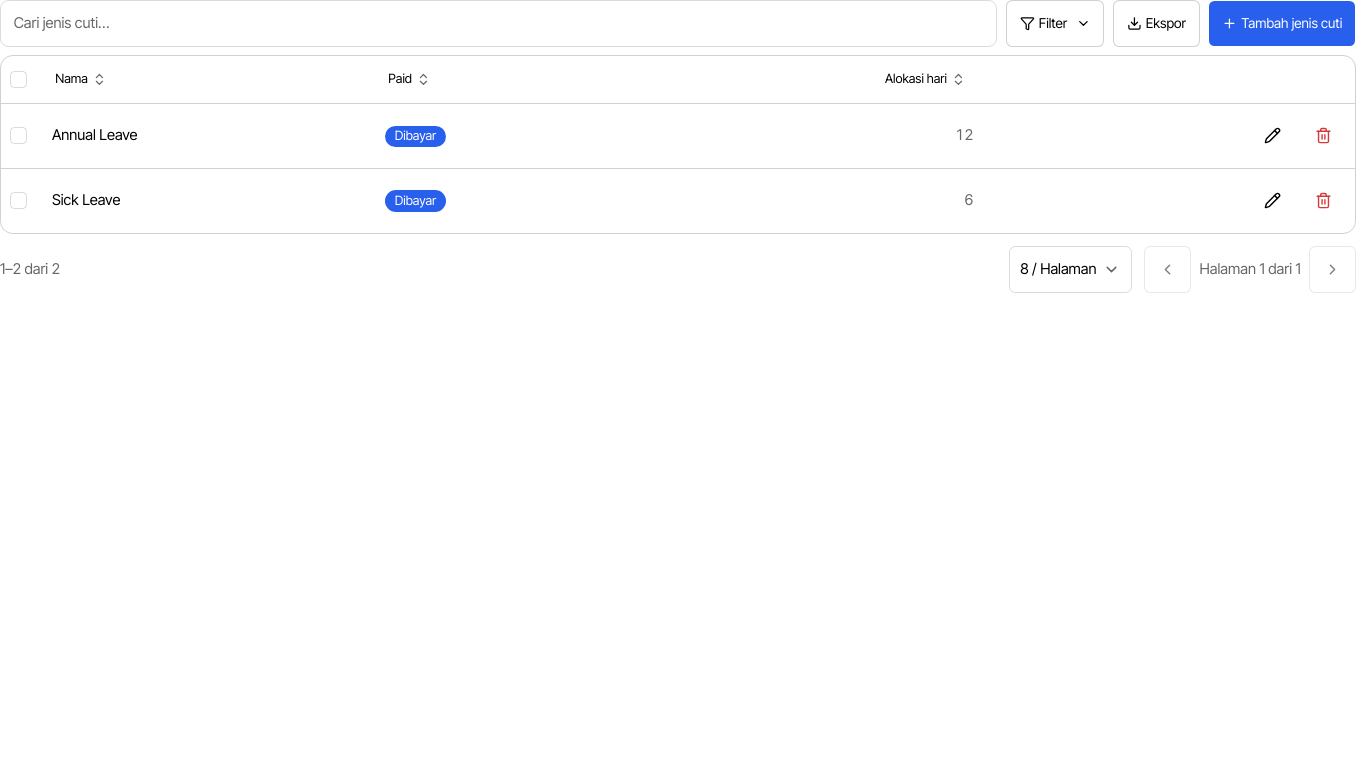
LeaveTypesSection › opens the create dialog from the add button
Expected: the text "Annual Leave" is shown, [52,126,138,144]
Click the button "Tambah jenis cuti" at [1282, 23], box [1208,0,1356,47]
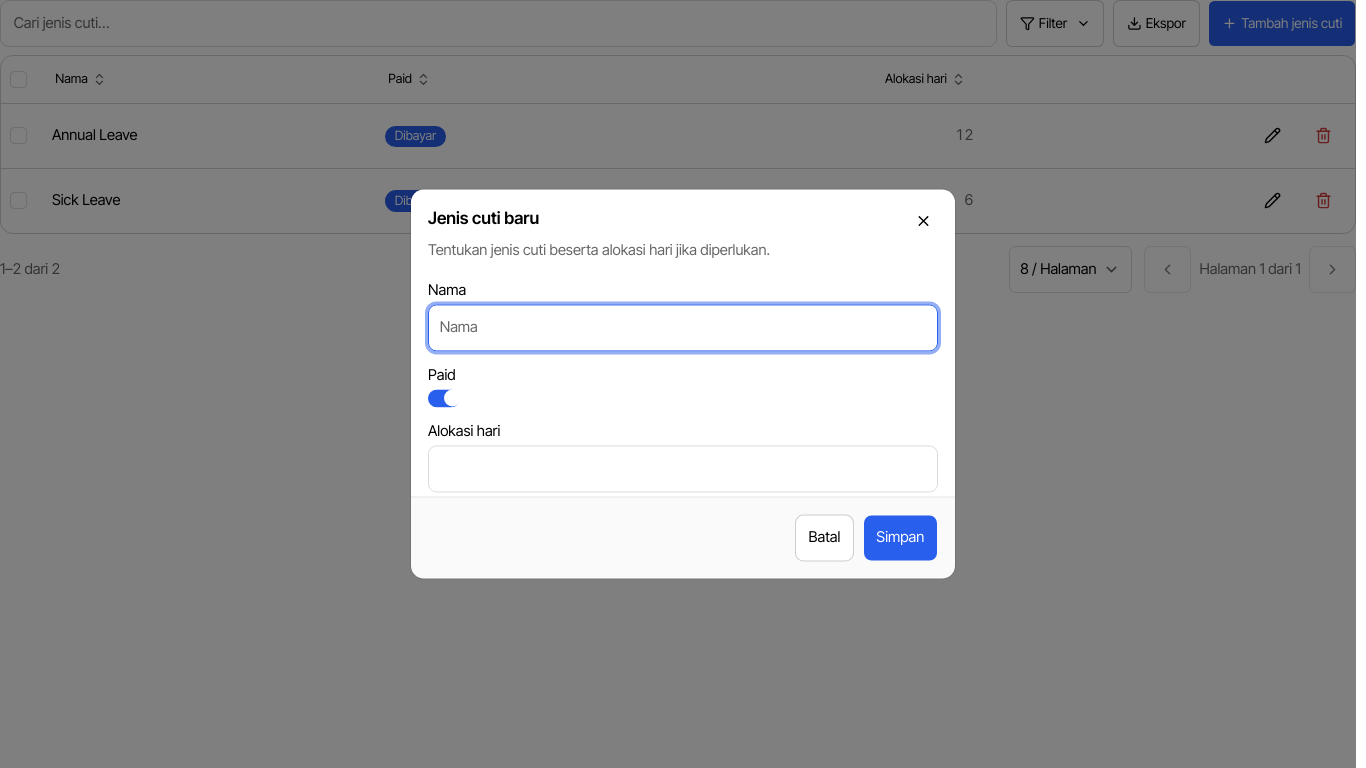
Expected: the heading "Jenis cuti baru" is shown, [428,206,539,232]
